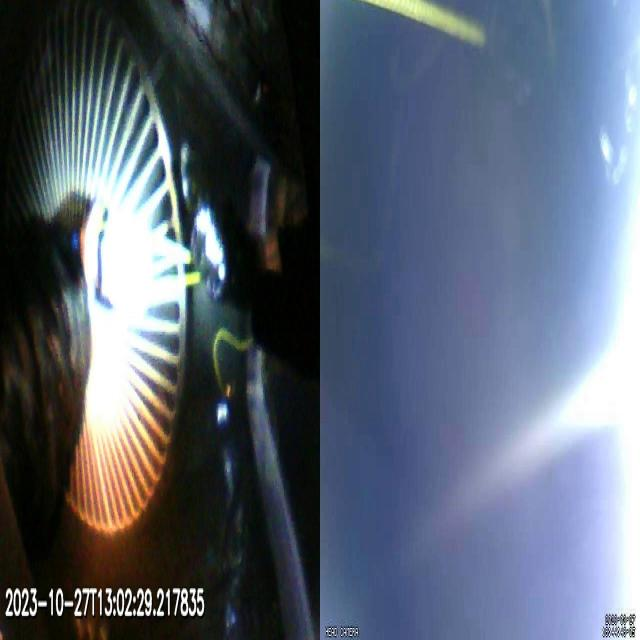head: (87, 202, 150, 313)
